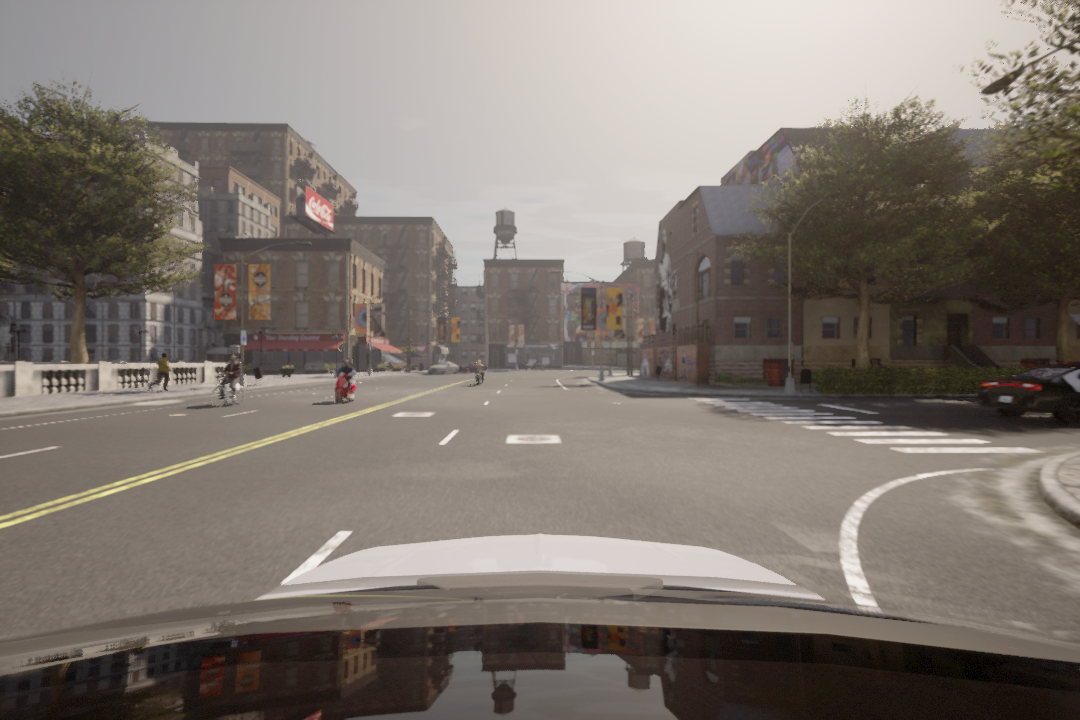walkside: (685, 394, 1037, 467)
